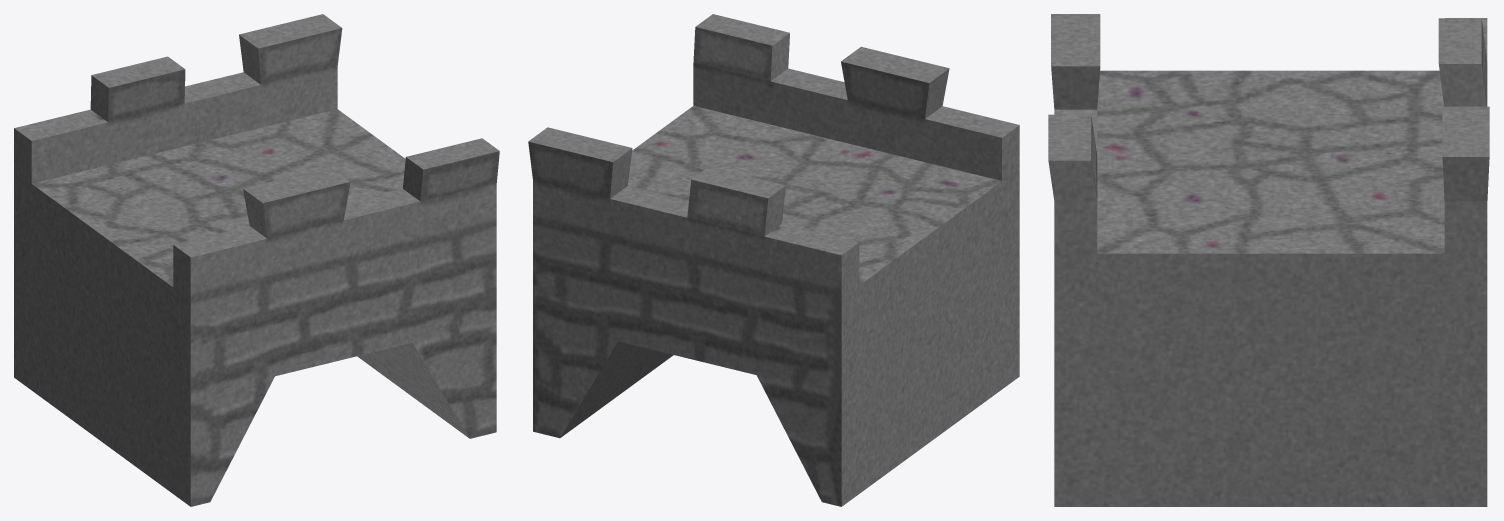
Rendered from hell_bridge.fbx.
The picture shows the model from 3 angles, left to right: view 1: azimuth 30°, elevation 25°; view 2: azimuth 150°, elevation 25°; view 3: azimuth 270°, elevation 25°; orthographic projection. The views are drawn at different scales.
Parts seen in each view (by area): view 1: hell_bridge_LOD0; view 2: hell_bridge_LOD0; view 3: hell_bridge_LOD0.
Boxes of the visible parts, box(x1,y1,x2,y2) form: hell_bridge_LOD0: box(14, 14, 499, 506); hell_bridge_LOD0: box(528, 14, 1019, 506); hell_bridge_LOD0: box(1048, 14, 1489, 506).
Size of what is drawn, in the model's own units: 2.03 by 2.04 by 1.79.
